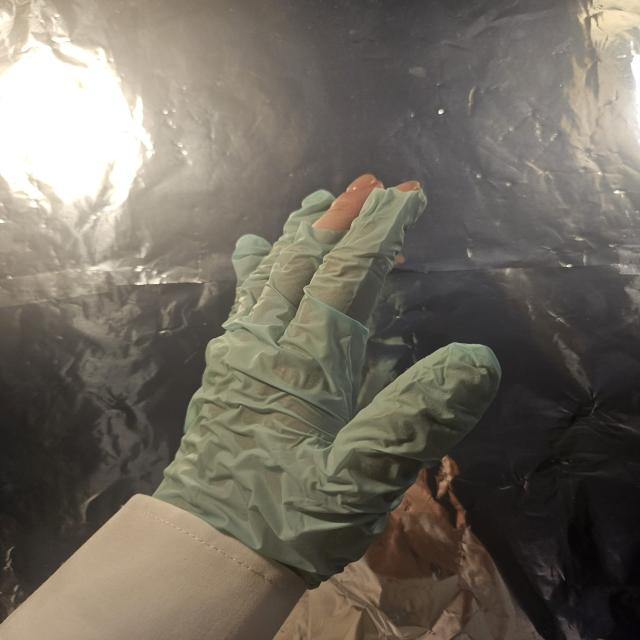gloves_damaged: (148, 172, 506, 590)
